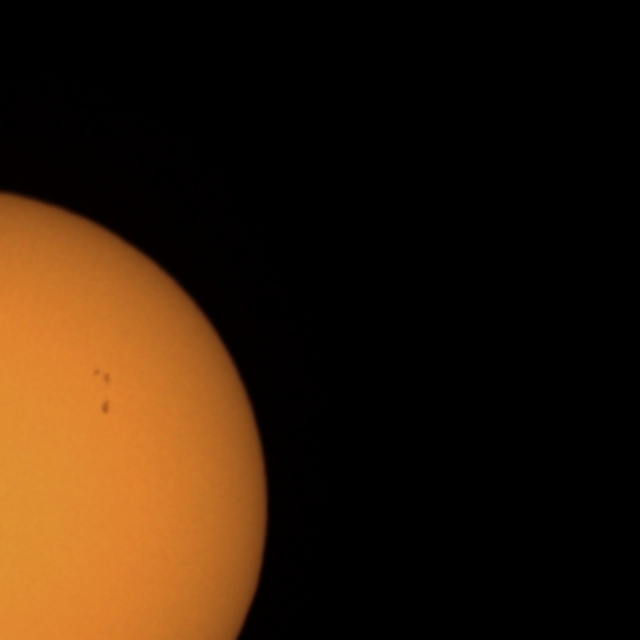sunspot: (91, 366, 113, 388), (99, 397, 112, 417)
